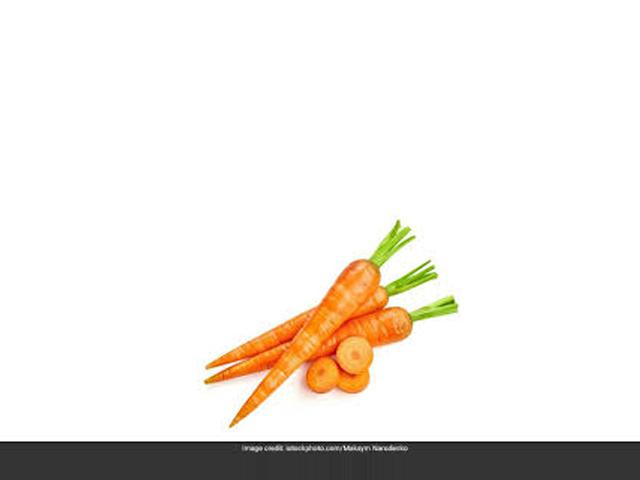carrot: (195, 280, 429, 374)
